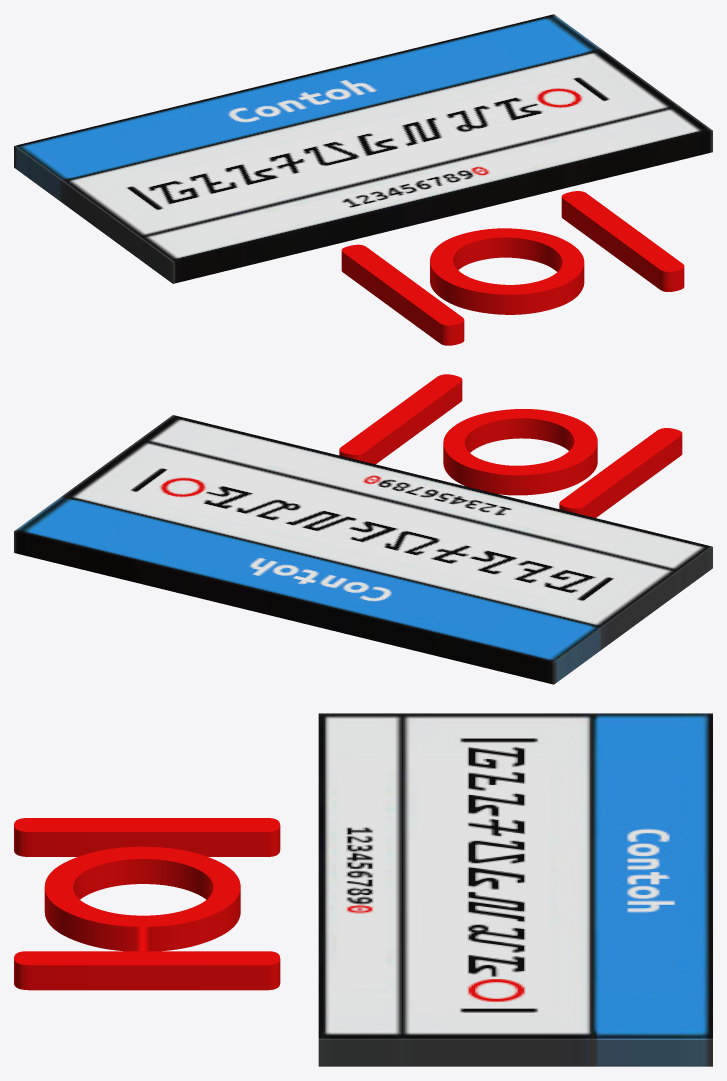
The picture shows the model from 3 angles, top to bottom: view 1: azimuth 30°, elevation 25°; view 2: azimuth 150°, elevation 25°; view 3: azimuth 270°, elevation 25°; orthographic projection. The views are drawn at different scales.
Parts seen in each view (by area): view 1: contoh-0-Angka, Text; view 2: contoh-0-Angka, Text; view 3: contoh-0-Angka, Text.
Part boxes in pixels (box(x1,y1,x2,y2)): contoh-0-Angka: box(14, 14, 712, 283); Text: box(341, 191, 684, 345); contoh-0-Angka: box(14, 415, 712, 684); Text: box(339, 374, 682, 517); contoh-0-Angka: box(318, 713, 712, 1066); Text: box(14, 818, 280, 990).
Bounding box in the file's own units: 1.96 × 0.11 × 1.77.
2 materials, 1 textured.
